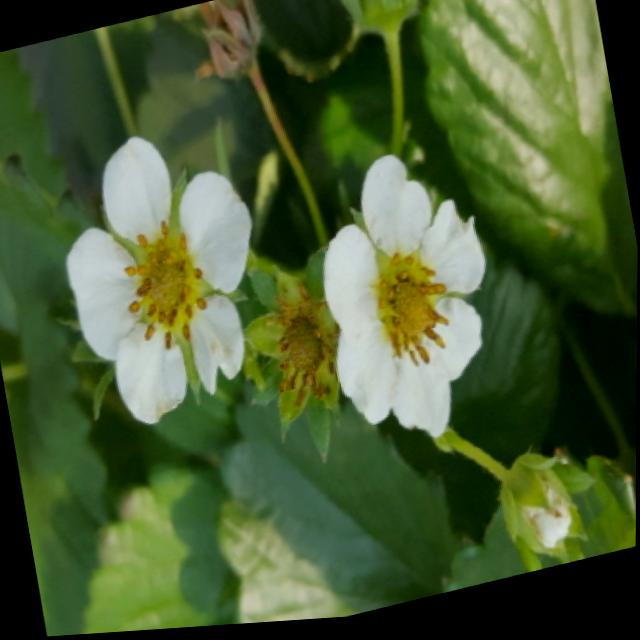Blossom Blight: (119, 216, 222, 357), (366, 251, 455, 373), (271, 306, 337, 404)
